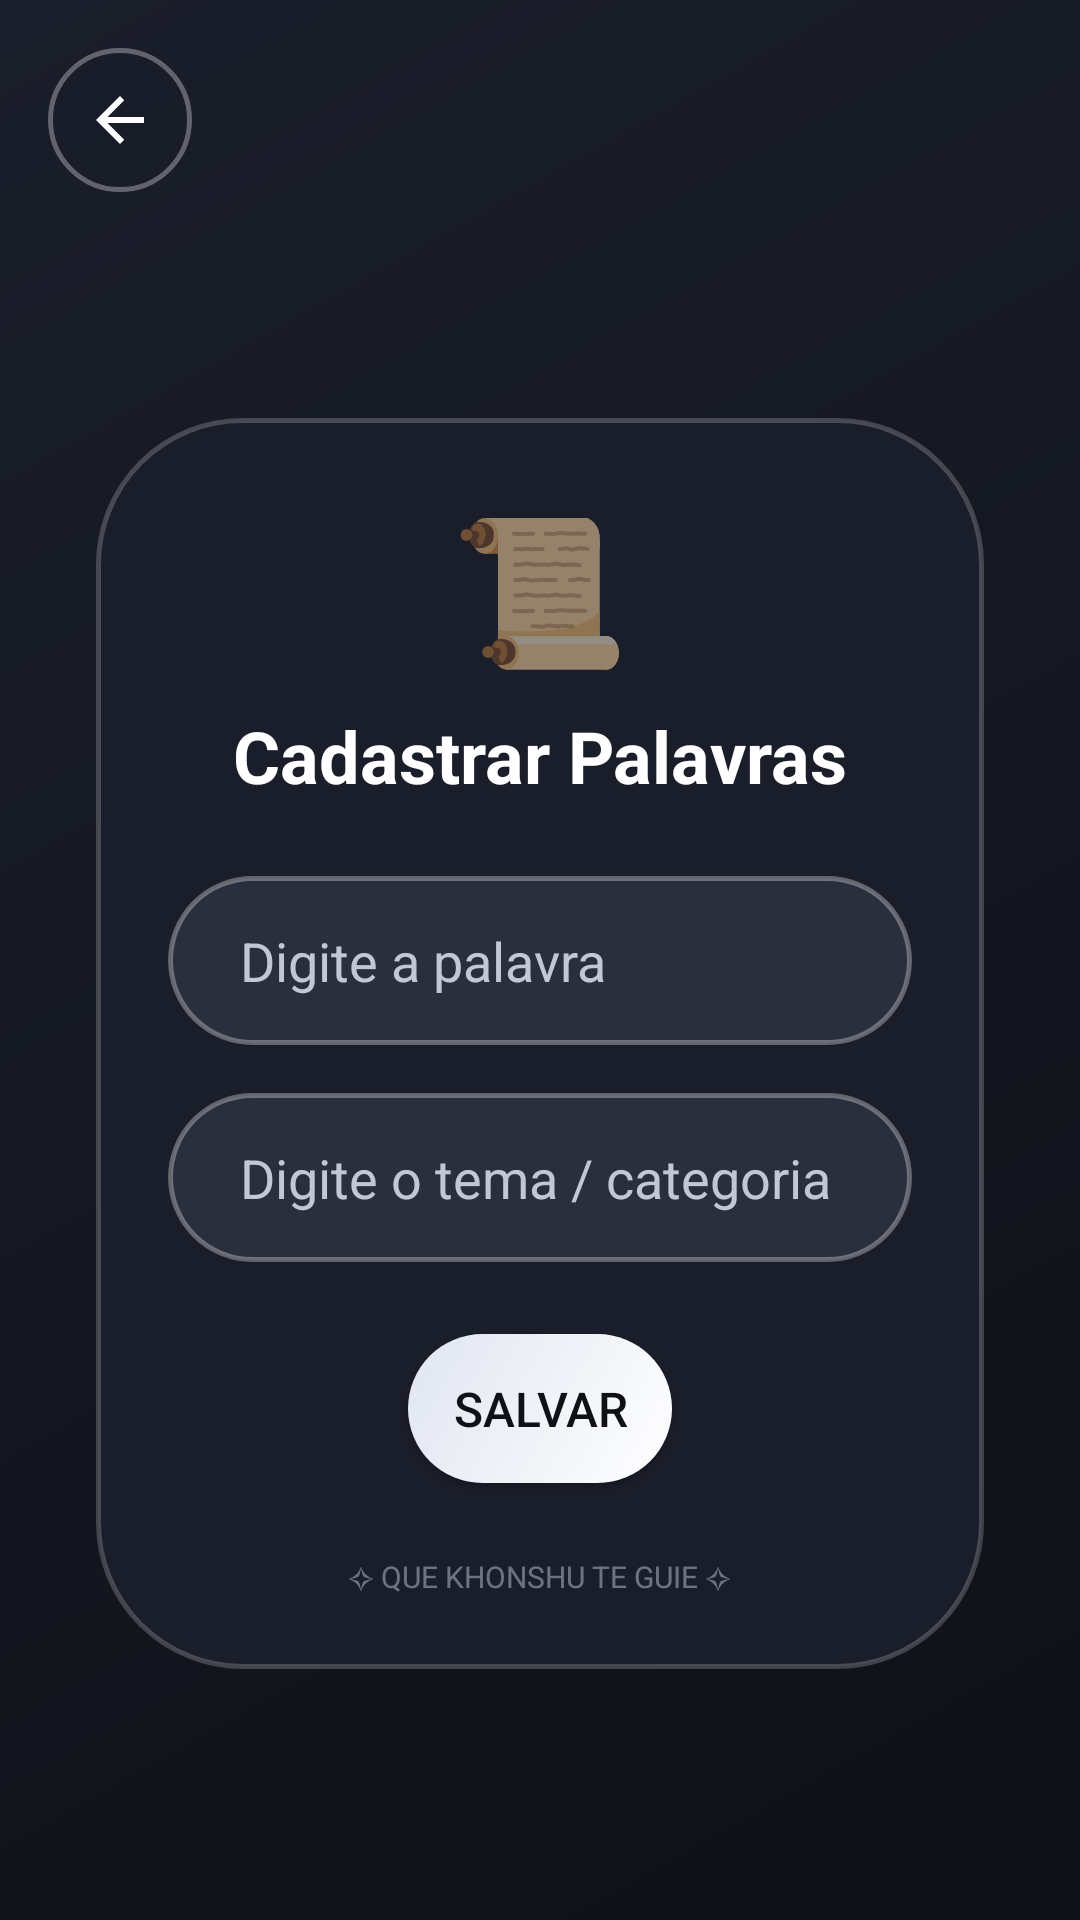

Where to tap for icons on this 1080×1920 app screen, as [x,y]:
Voltar: [120,120]
